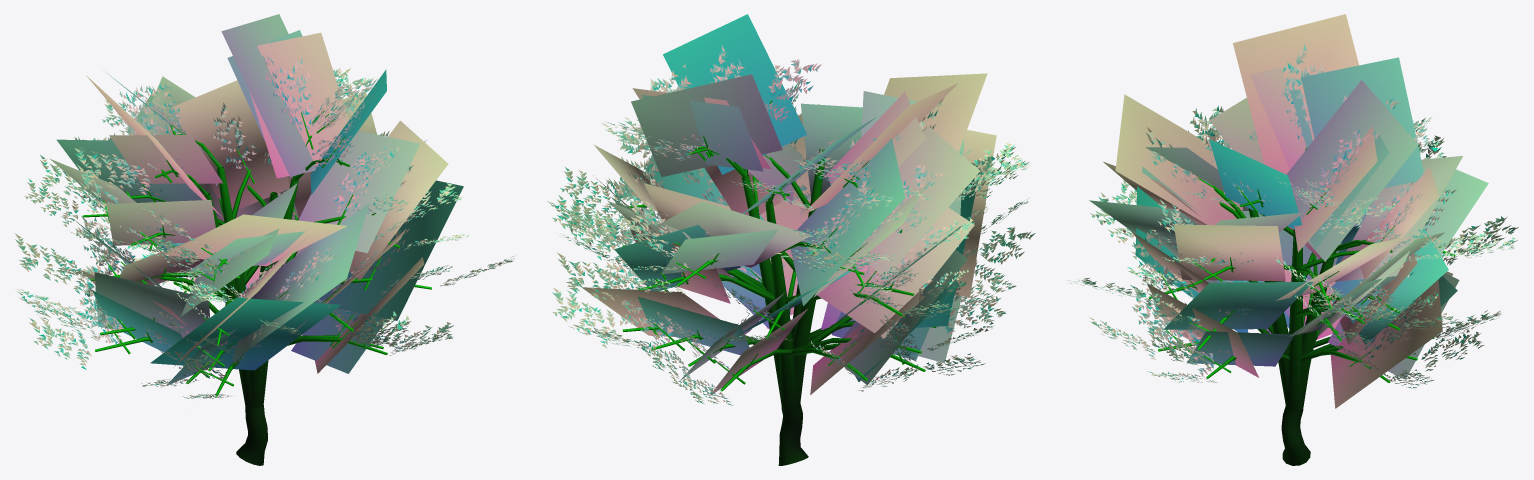
The model's file is hill_c_1.glb.
3 renders of one model, left to right at view 1: azimuth 30°, elevation 25°; view 2: azimuth 150°, elevation 25°; view 3: azimuth 270°, elevation 25°, orthographic. The views are drawn at different scales.
Parts seen in each view (by area): view 1: mid, near; view 2: mid, near; view 3: mid, near.
Part boxes in pixels (bbox=[...]): mid: bbox=[49, 14, 463, 406]; near: bbox=[15, 38, 515, 465]; mid: bbox=[582, 14, 996, 411]; near: bbox=[547, 45, 1035, 465]; mid: bbox=[1089, 14, 1488, 412]; near: bbox=[1067, 44, 1518, 465].
Bounding box in the file's own units: 5.97 × 5.7 × 6.13.
